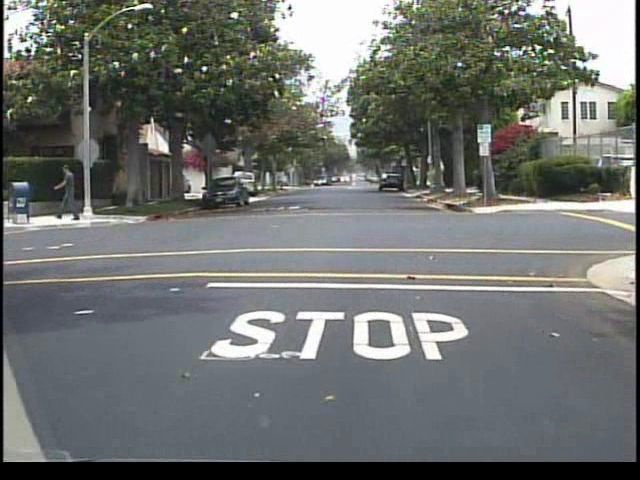person: (56, 160, 87, 226)
